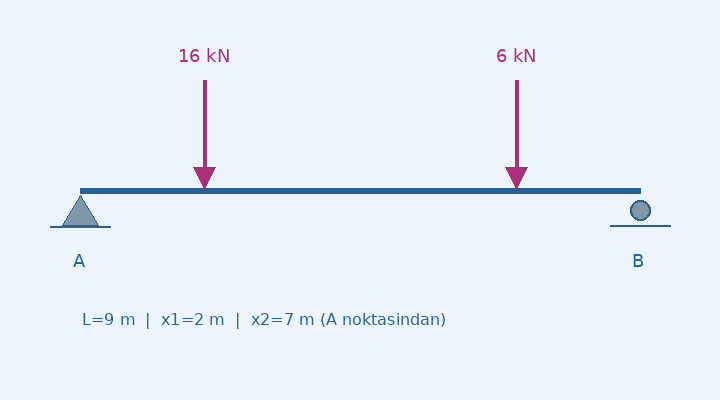pin_support: (61, 190, 99, 226)
point_load: (190, 76, 218, 190), (502, 76, 530, 190)
roller_support: (625, 196, 655, 227)
